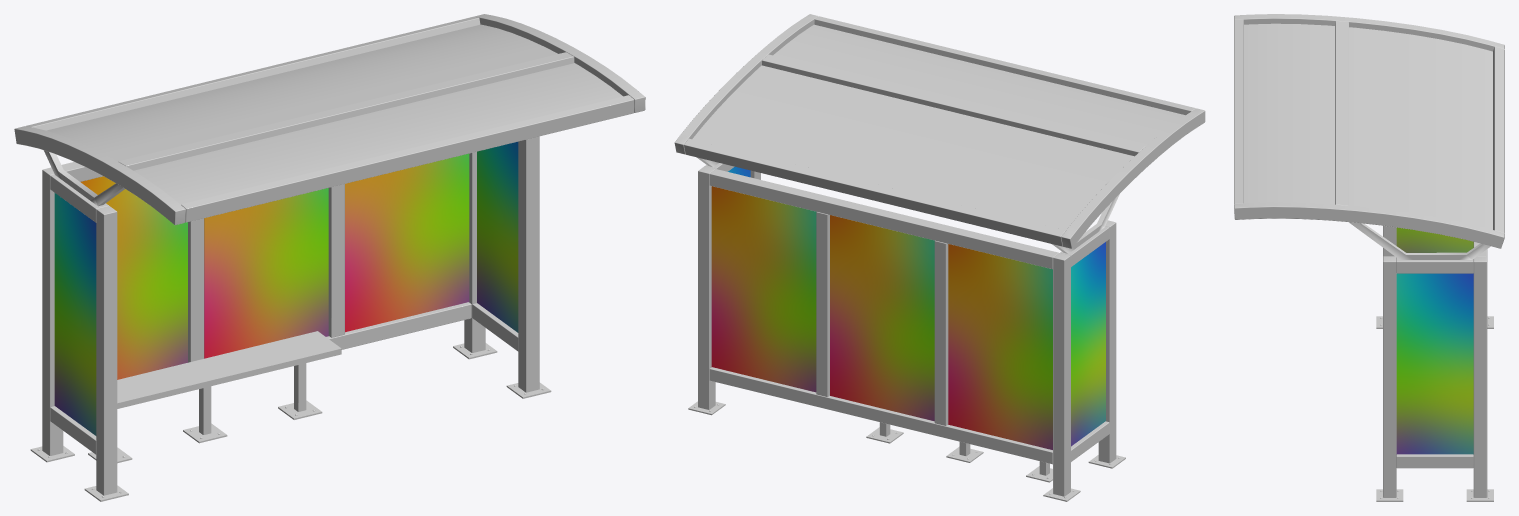
File: bus_stop.fbx
3 renders of one model, left to right at view 1: azimuth 30°, elevation 25°; view 2: azimuth 150°, elevation 25°; view 3: azimuth 270°, elevation 25°, orthographic. The views are drawn at different scales.
Parts seen in each view (by area): view 1: bus_stop; view 2: bus_stop; view 3: bus_stop.
Part boxes in pixels (<box>): bus_stop: <box>14,14,645,501</box>; bus_stop: <box>674,14,1205,501</box>; bus_stop: <box>1234,14,1504,501</box>.
Bounding box in the file's own units: 340 × 246 × 202.
